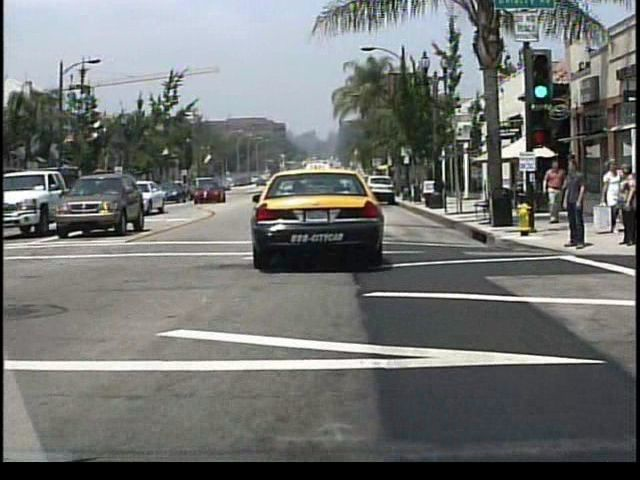person: (566, 156, 589, 251), (546, 162, 568, 222), (602, 156, 622, 215)
